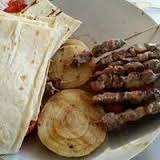kebap: (84, 43, 159, 128)
